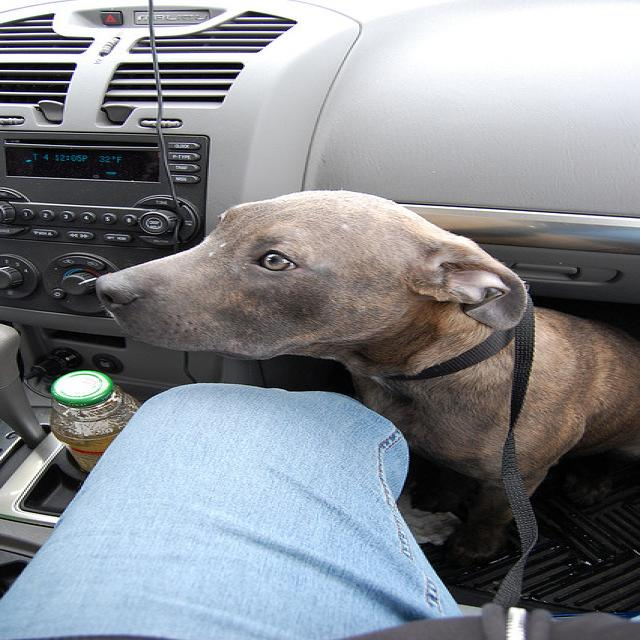Vehicle: (4, 3, 640, 631)
